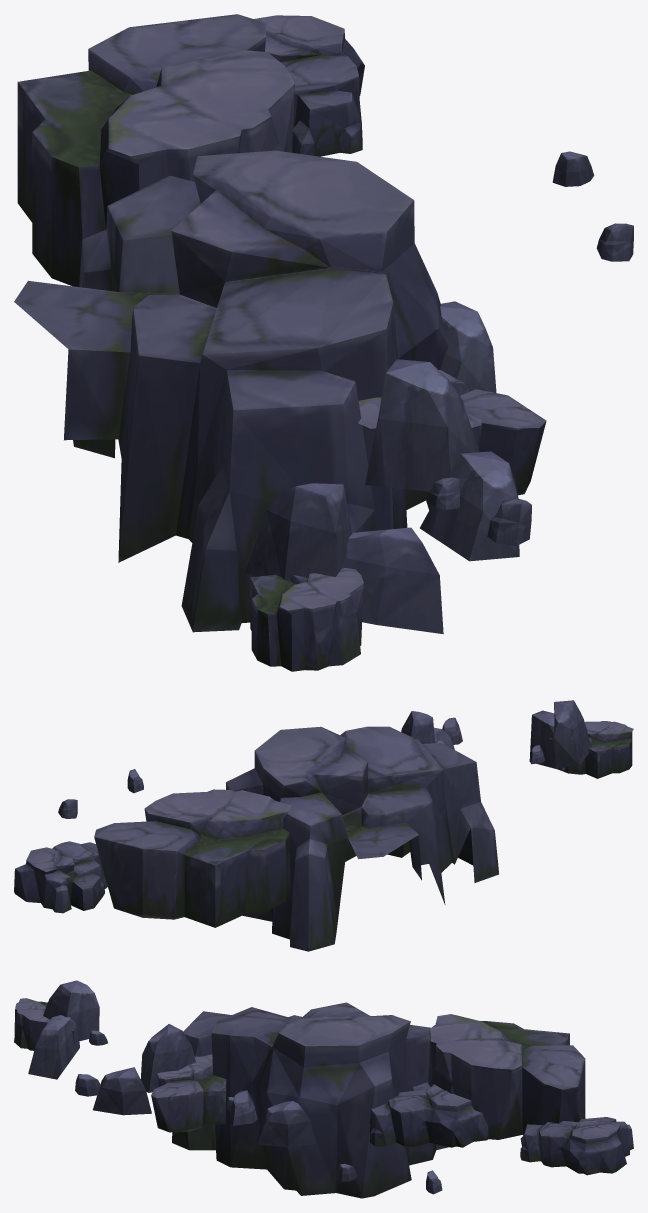
The model's file is Area12_1.fbx.
The picture shows the model from 3 angles, top to bottom: view 1: azimuth 30°, elevation 25°; view 2: azimuth 150°, elevation 25°; view 3: azimuth 270°, elevation 25°; orthographic projection. The views are drawn at different scales.
Visible parts, largest first — view 1: Area12_1; view 2: Area12_1; view 3: Area12_1.
Part boxes in pixels (left/top/right/bottom): Area12_1: left=14, top=14, right=633, bottom=671; Area12_1: left=14, top=700, right=633, bottom=951; Area12_1: left=14, top=980, right=633, bottom=1198.
Bounding box in the file's own units: 5916 × 2166 × 8658.
